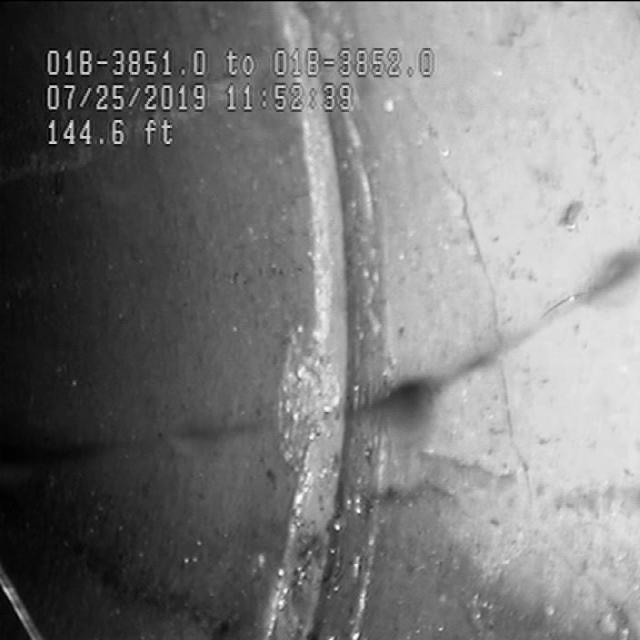Crack: (429, 117, 534, 487)
